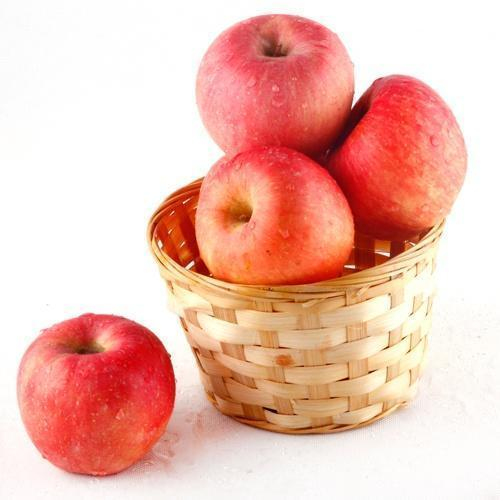apple: (15, 319, 177, 482), (323, 72, 468, 242), (191, 149, 358, 291), (193, 14, 356, 158)
